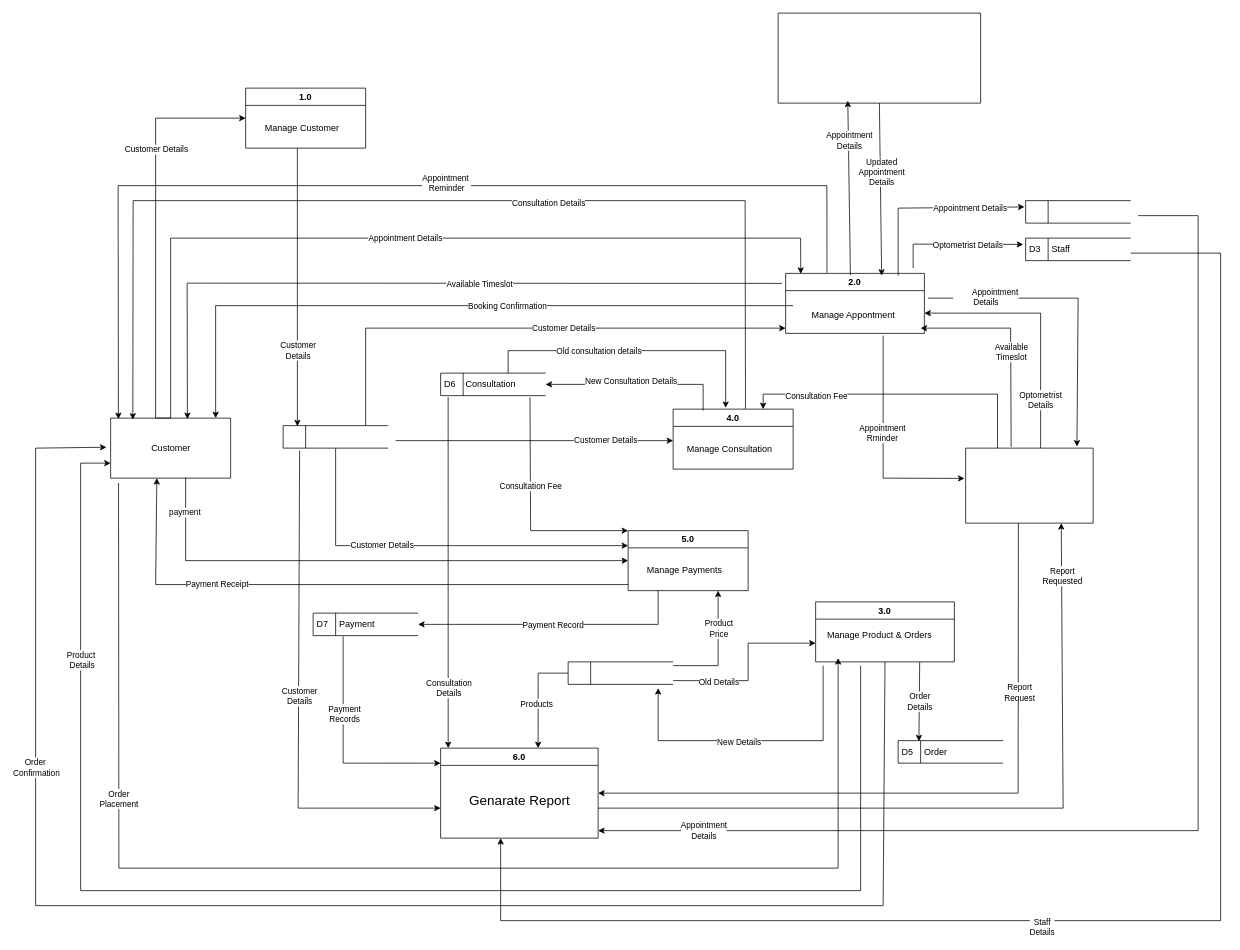
This 1240x950 diagram has some shape labels left out. The centre of each missing label's shape, as x and y in pixels:
Administrator: the point at 879,57
D1 Customer: the point at 335,436
D2 Appointment: the point at 1078,211
D4 Product: the point at 620,672
Optometrist: the point at 1029,485
